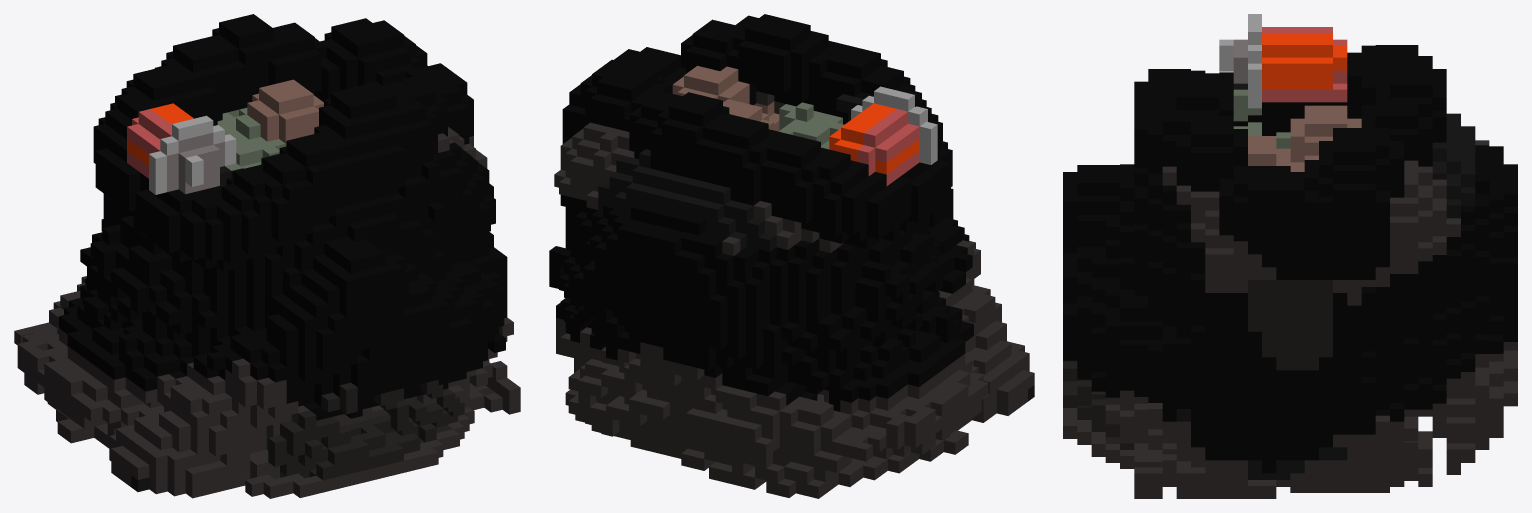
File: vuil 2fbx (1).fbx
3 views of the same model, side by side, from view 1: azimuth 30°, elevation 25°; view 2: azimuth 150°, elevation 25°; view 3: azimuth 270°, elevation 25° (orthographic). The views are drawn at different scales.
Visible parts, largest first — view 1: Layer.048; view 2: Layer.048; view 3: Layer.048.
Boxes of the visible parts, x1,y1,x2,y2 form: Layer.048: (14, 14, 520, 498); Layer.048: (549, 14, 1034, 498); Layer.048: (1063, 14, 1517, 498).
Bounding box in the file's own units: 3200 × 2700 × 3200.
Materials: 1 (1 with a texture image).
